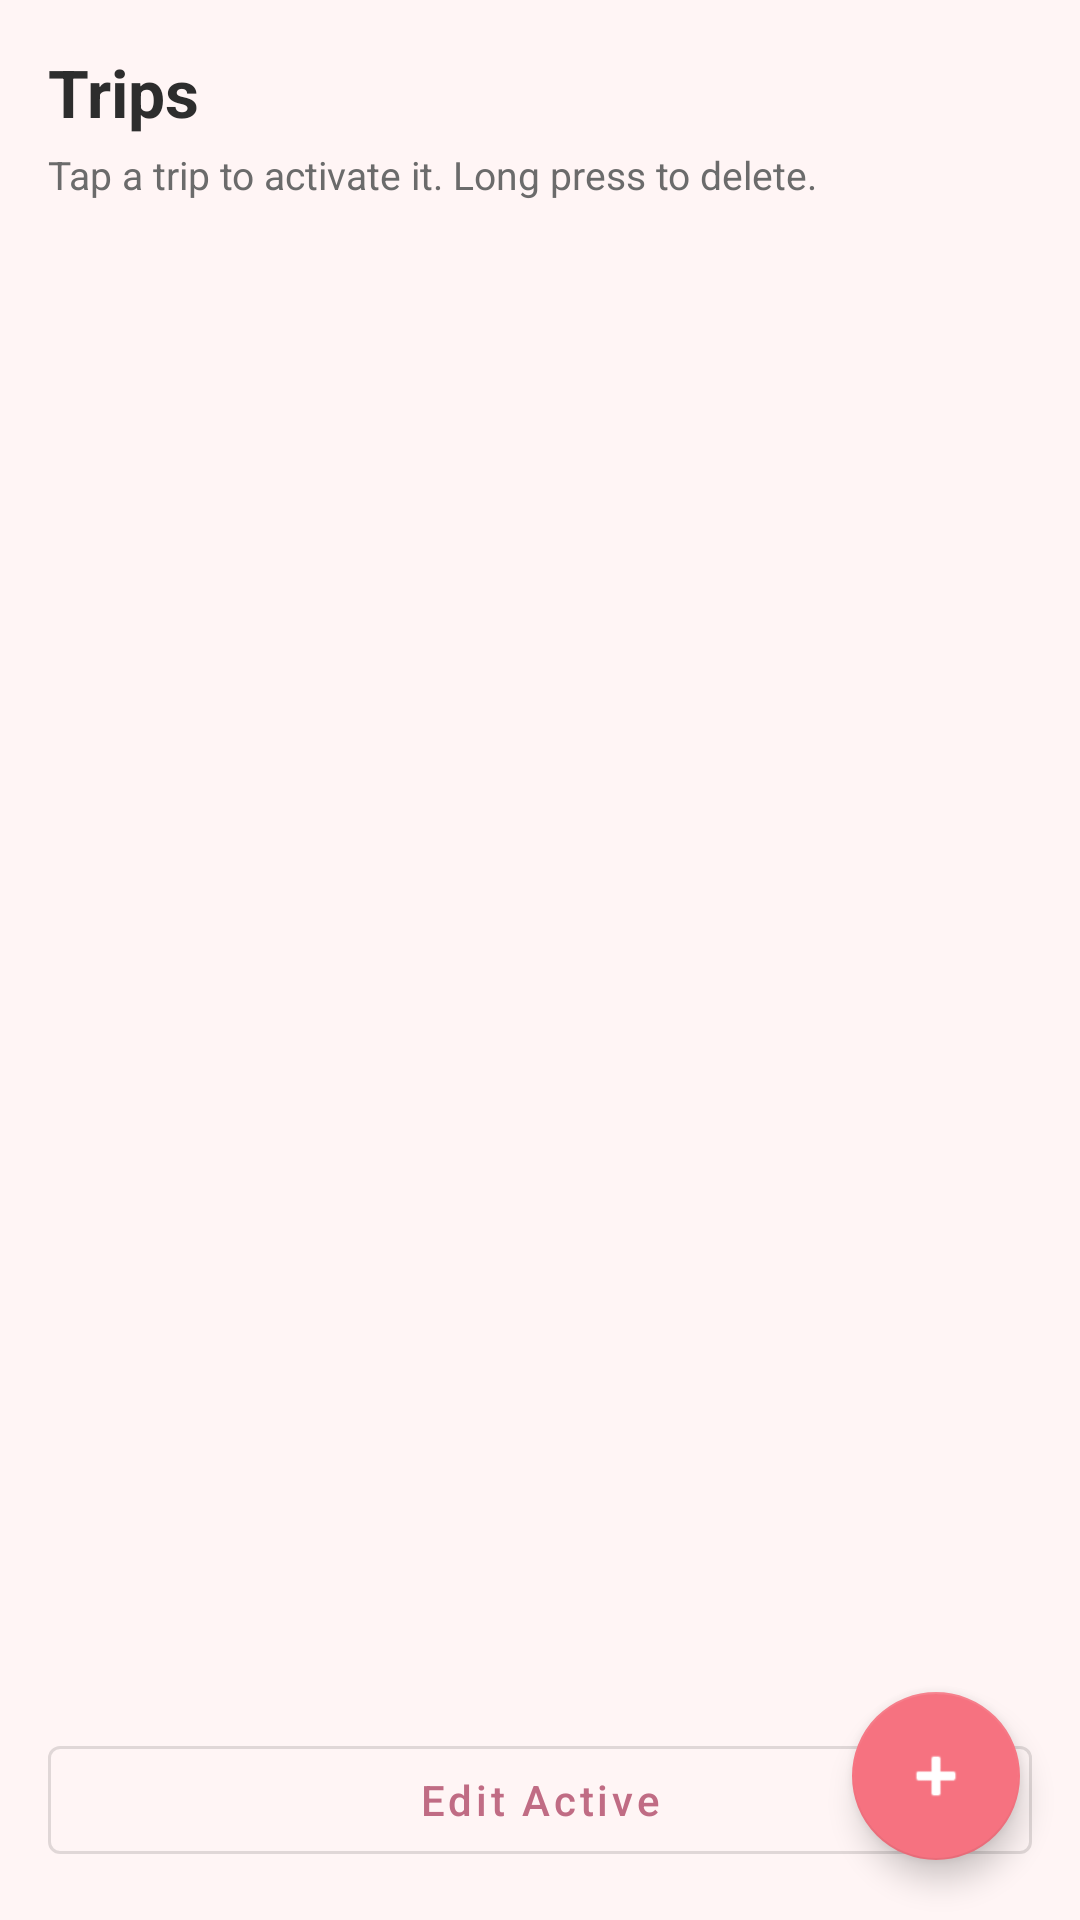

Named icons in this screenshot (1080×1920) and their bounding boxes, (x1, y1, x2, y2):
Add Trip: (852, 1692, 1020, 1860)
